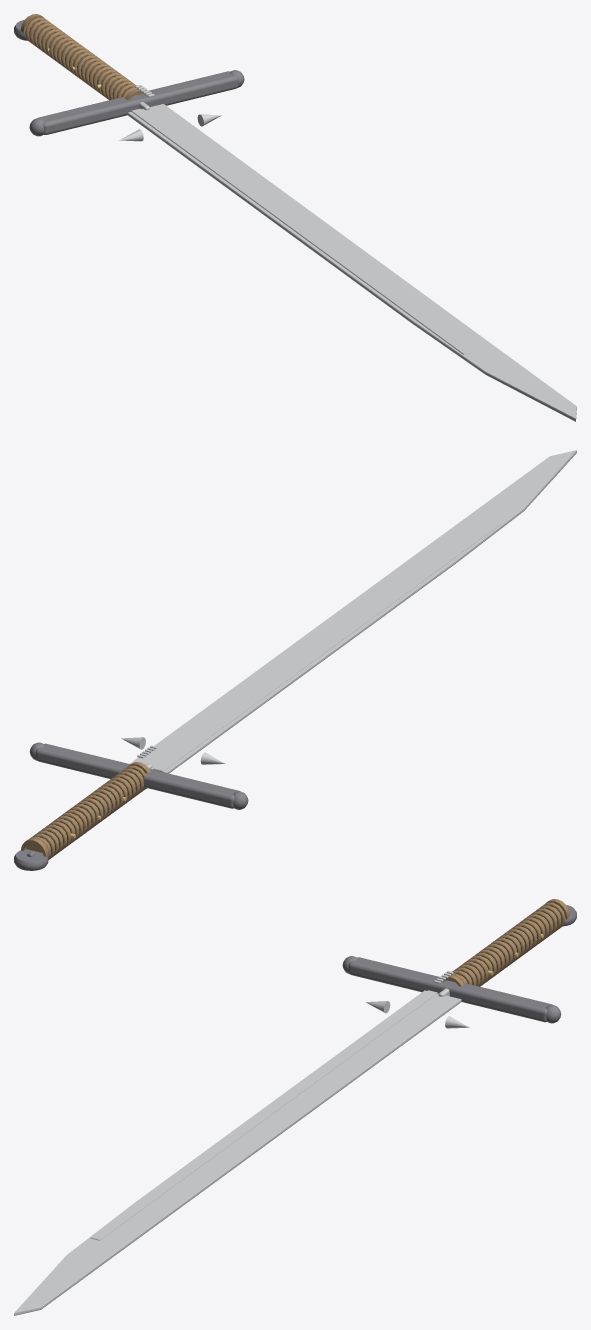
The model's file is zweihander.glb.
3 views of the same model, one above another, from view 1: azimuth 30°, elevation 25°; view 2: azimuth 150°, elevation 25°; view 3: azimuth 330°, elevation 25° (orthographic).
Parts seen in each view (by area): view 1: zweihander; view 2: zweihander; view 3: zweihander.
Boxes of the visible parts, left/top/right/bottom form: zweihander: left=14, top=14, right=576, bottom=421; zweihander: left=14, top=450, right=576, bottom=870; zweihander: left=14, top=899, right=576, bottom=1315.
Size of the model in its own units: 0.346 by 0.05 by 1.55.
